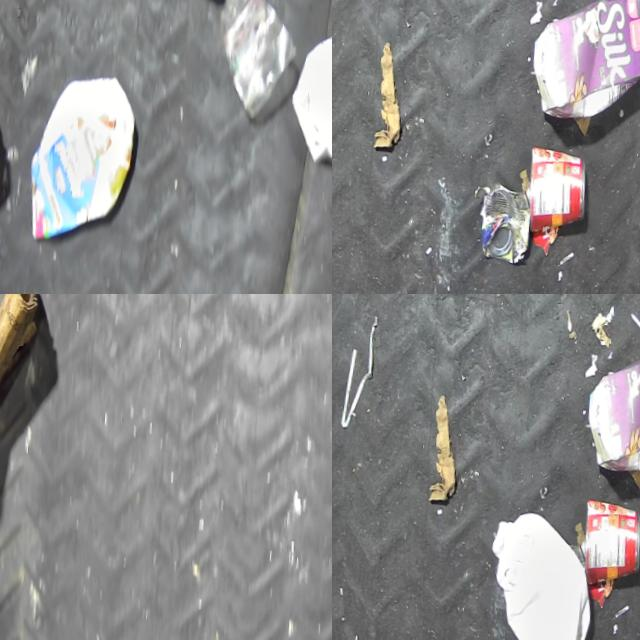can: (520, 141, 587, 235), (575, 494, 640, 588), (471, 177, 532, 264)
milk_jug: (474, 505, 596, 640), (284, 0, 332, 174)
non_white_jug: (524, 0, 640, 129), (579, 331, 640, 482)
